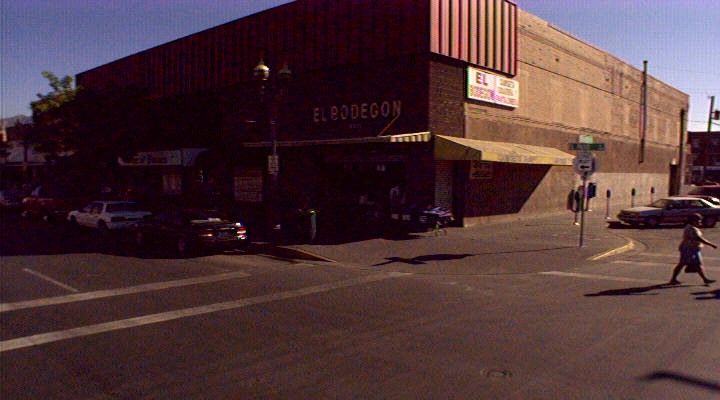Ramp: (290, 236, 612, 273)
